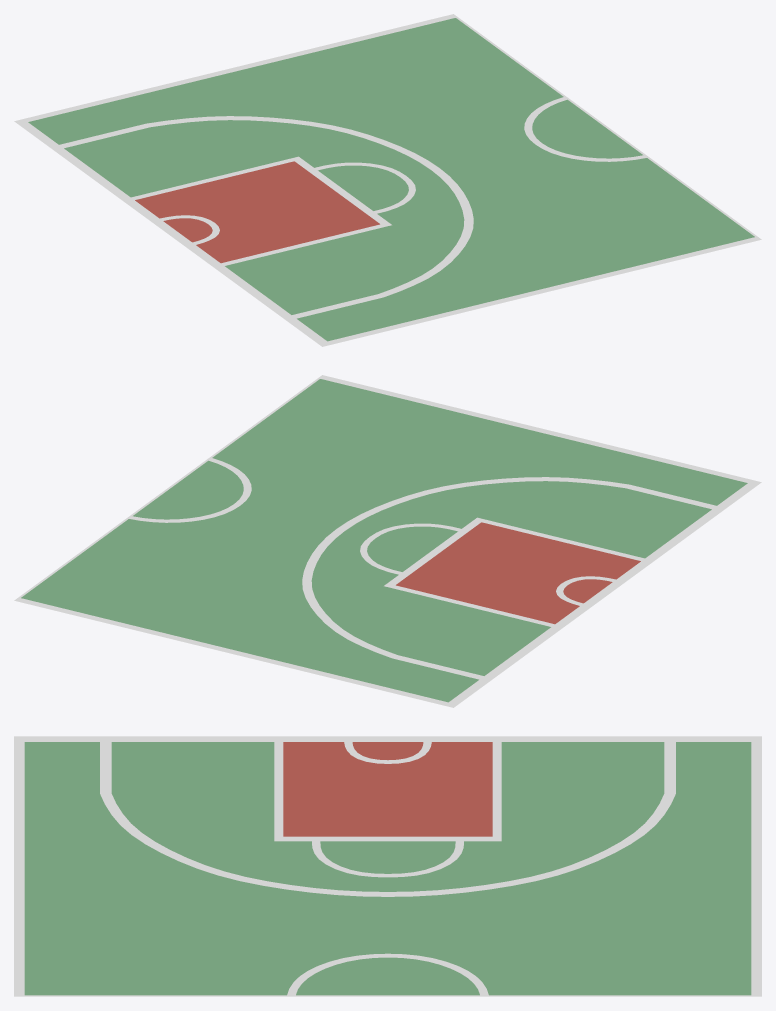
File: Basketball Street Playground.fbx
3 views of the same model, one above another, from view 1: azimuth 30°, elevation 25°; view 2: azimuth 150°, elevation 25°; view 3: azimuth 270°, elevation 25° (orthographic). The views are drawn at different scales.
Parts seen in each view (by area): view 1: Basketball Strreet Playground; view 2: Basketball Strreet Playground; view 3: Basketball Strreet Playground.
Boxes of the visible parts, x1=… form: Basketball Strreet Playground: x1=14, y1=14, x2=761, y2=346; Basketball Strreet Playground: x1=14, y1=375, x2=761, y2=707; Basketball Strreet Playground: x1=14, y1=736, x2=761, y2=996.
Size of the model in its own units: 1033 by 0 by 1255.
